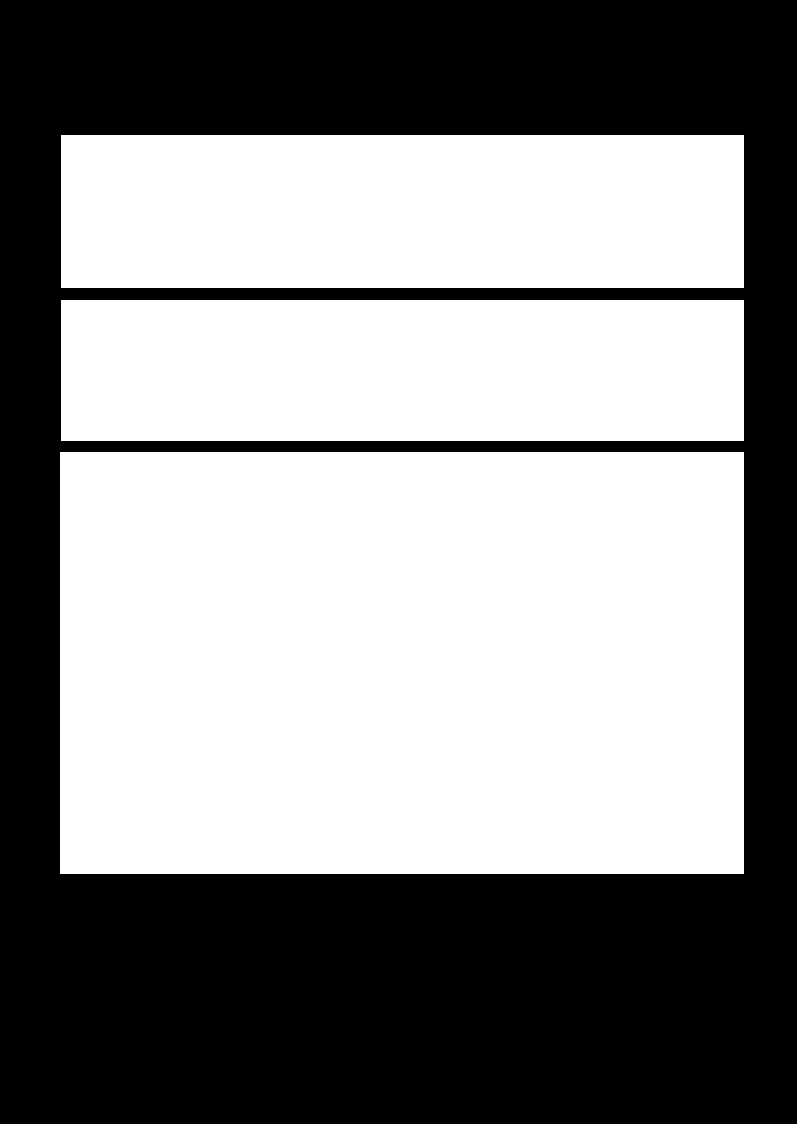table: (60, 452, 743, 873), (61, 135, 743, 287), (61, 300, 743, 440)
